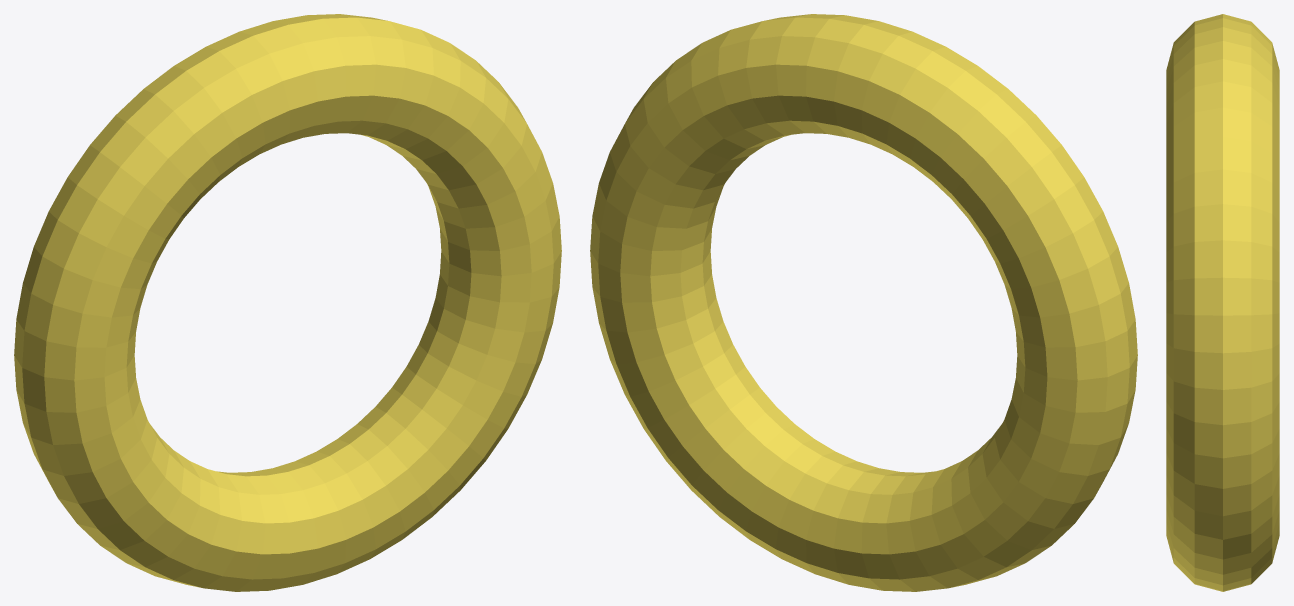
The model's file is g_banana.glb.
The picture shows the model from 3 angles, left to right: view 1: azimuth 30°, elevation 25°; view 2: azimuth 150°, elevation 25°; view 3: azimuth 270°, elevation 25°; orthographic projection. The views are drawn at different scales.
Visible parts, largest first — view 1: g_banana; view 2: g_banana; view 3: g_banana.
Boxes of the visible parts, bbox=[...] form: g_banana: bbox=[14, 14, 561, 591]; g_banana: bbox=[590, 14, 1137, 591]; g_banana: bbox=[1166, 14, 1279, 591].
Bounding box in the file's own units: 0.224 × 0.224 × 0.044.
